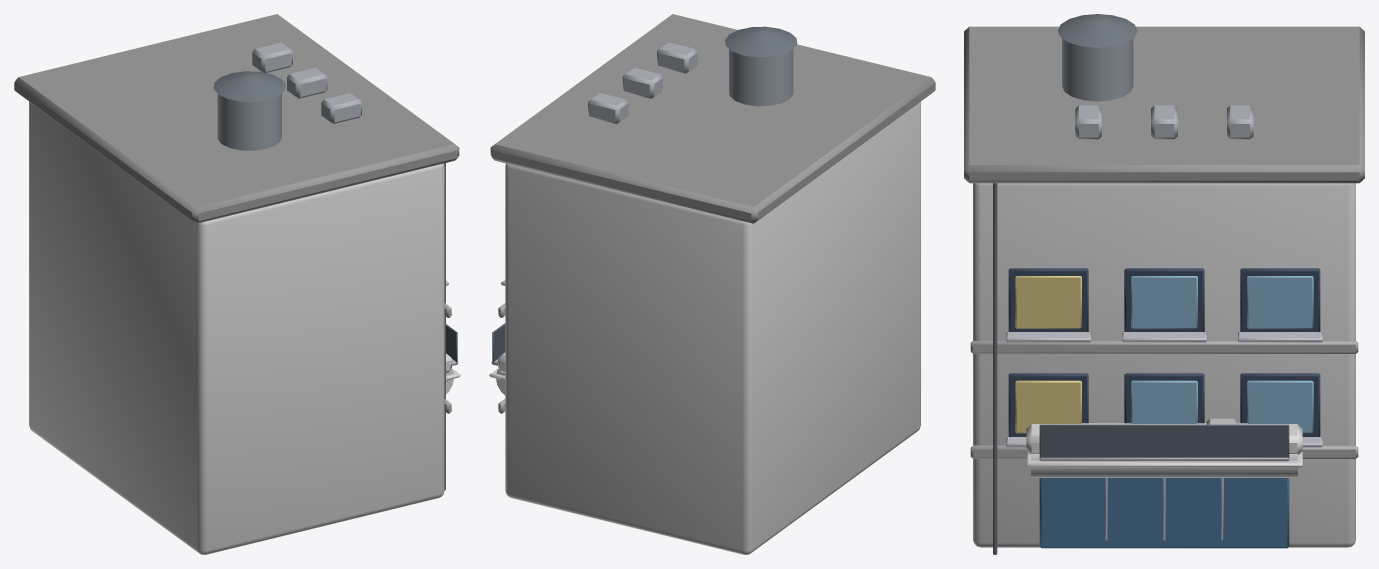
The model's file is bld_1.glb.
The picture shows the model from 3 angles, left to right: view 1: azimuth 30°, elevation 25°; view 2: azimuth 150°, elevation 25°; view 3: azimuth 270°, elevation 25°; orthographic projection. The views are drawn at different scales.
Parts seen in each view (by area): view 1: b; view 2: b; view 3: b.
Part boxes in pixels (box(x1,y1,x2,y2)): b: box(14, 14, 460, 554); b: box(489, 14, 935, 554); b: box(964, 14, 1364, 554).
Bounding box in the file's own units: 8.5 × 11.3 × 9.
